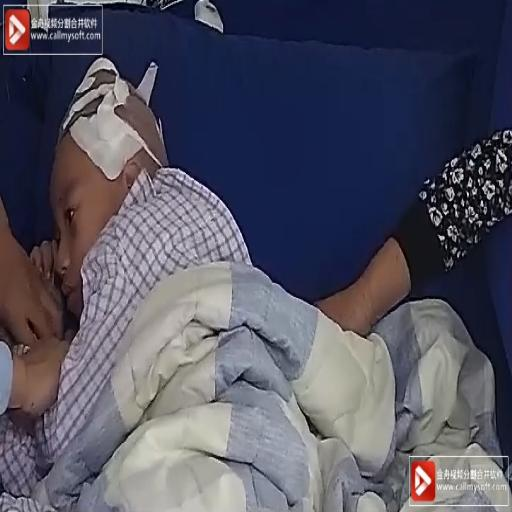Seizure: (23, 86, 157, 308)
